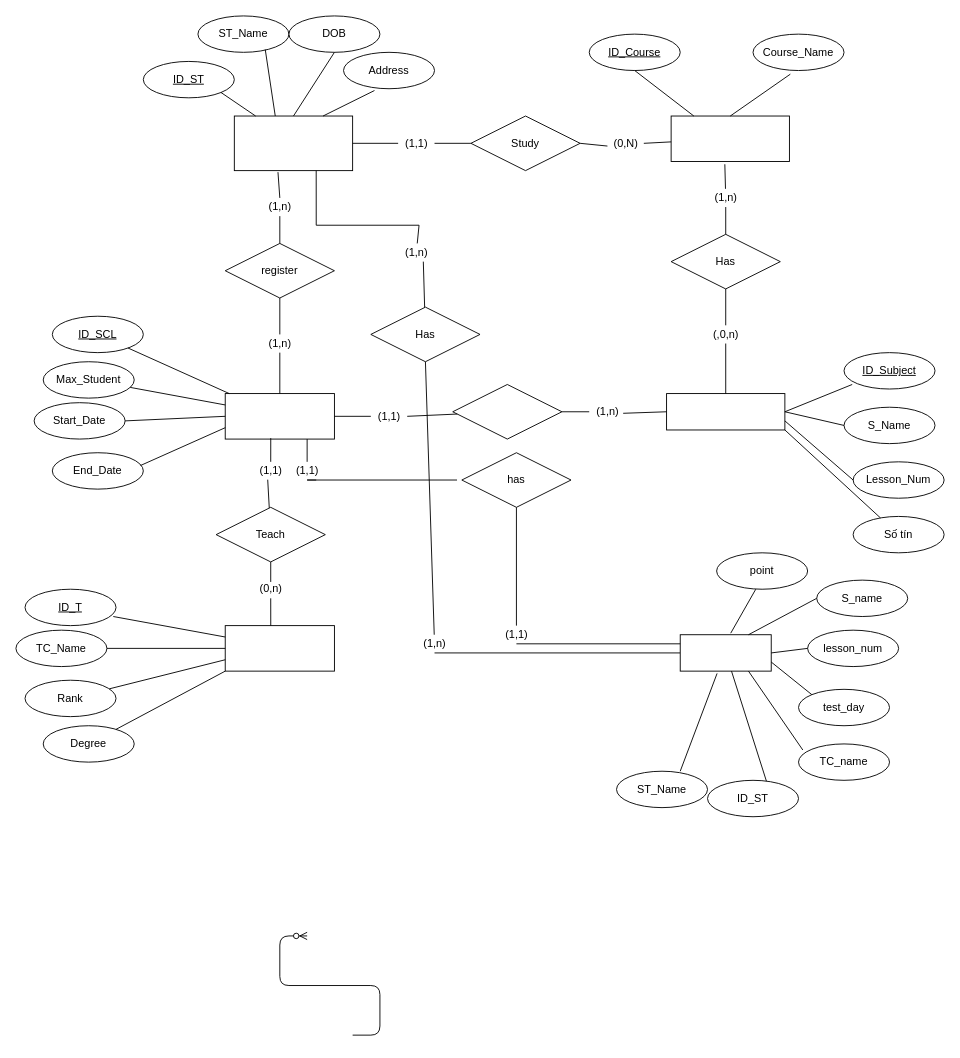
The diagram is 960 pixels wide and 1058 high, and some of its shapes have lost their labels. The shapes that lost their labels are listed below. From the top down, each one's box as (x1, y1, x2, y2) in pixels, then its label:
(233, 115, 353, 171): Student profile
(670, 115, 789, 162): Course
(224, 393, 334, 439): Subject_Class
(452, 384, 562, 439): Relationship
(666, 393, 785, 430): Subject
(224, 625, 334, 671): Teacher
(679, 634, 771, 671): Point_of_subject
